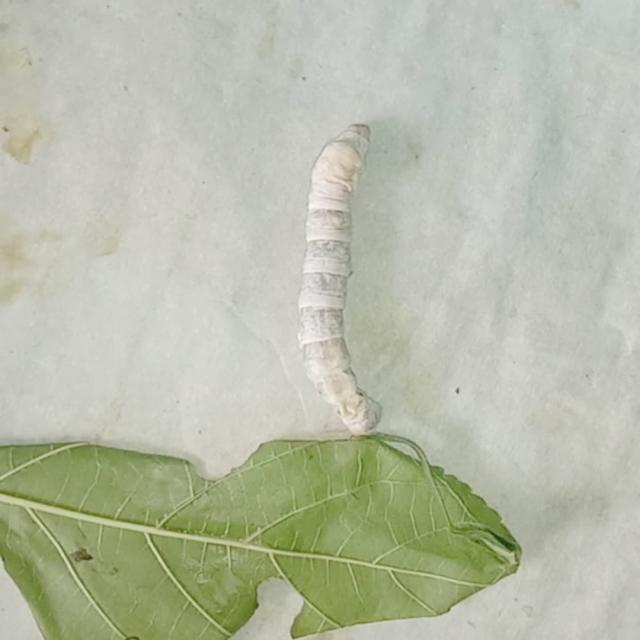Grasserie: (270, 94, 453, 483)
